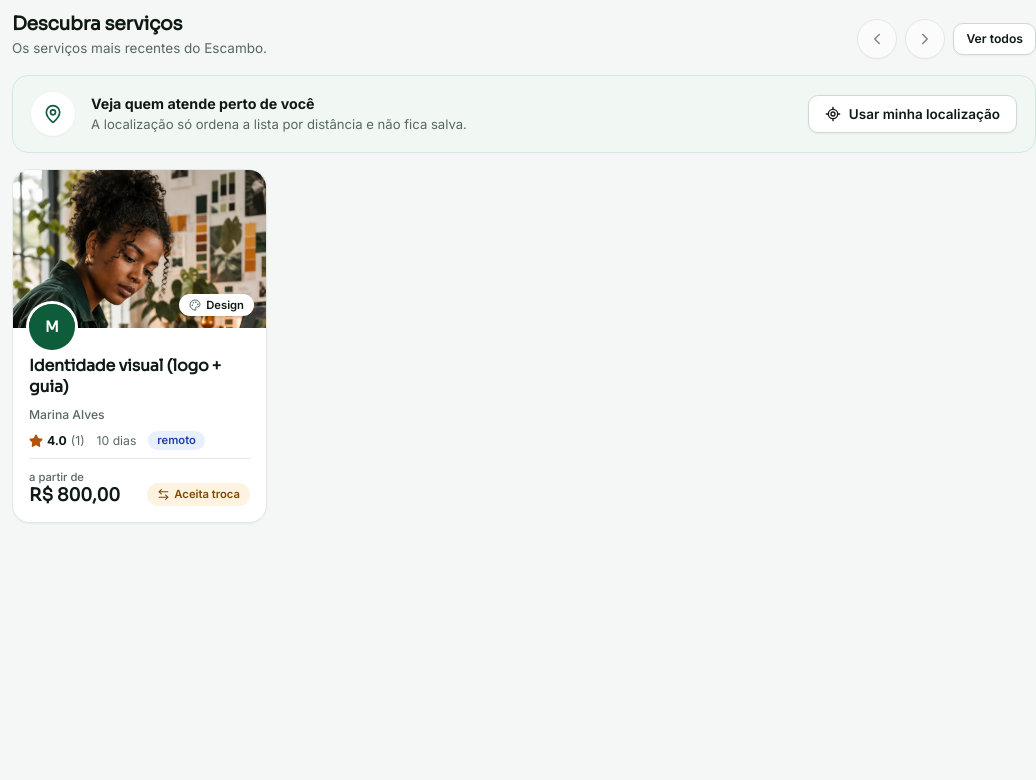
Test case: NearbyServices › sem localização: mostra os recentes e pede a do navegador só no clique
Expected: the text "Os serviços mais recentes do Escambo." is shown, [12,39,267,59]
Expected: the link "Identidade visual (logo + guia)" is shown, [29,356,250,398]
Click the button "Usar minha localização". click: (912, 114)
box: [808,95,1017,134]
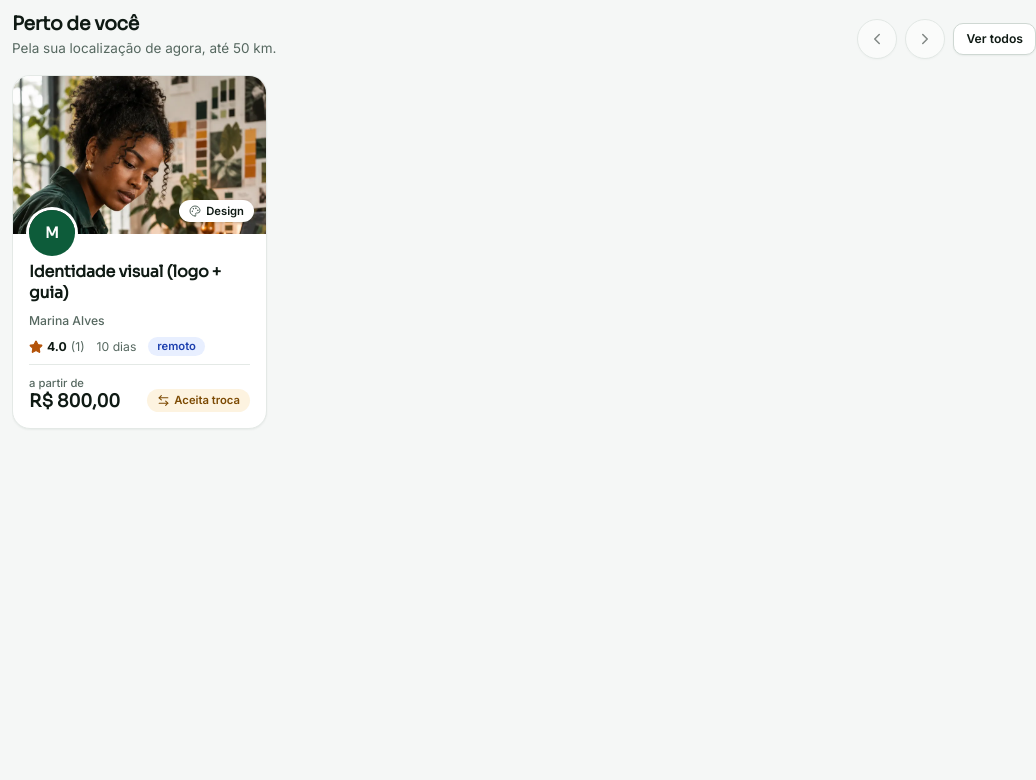
Expected: the element "Perto de você" is shown, [12,12,1035,443]
Expected: the text "Pela sua localização de agora, até 50 km." is shown, [12,39,276,59]
